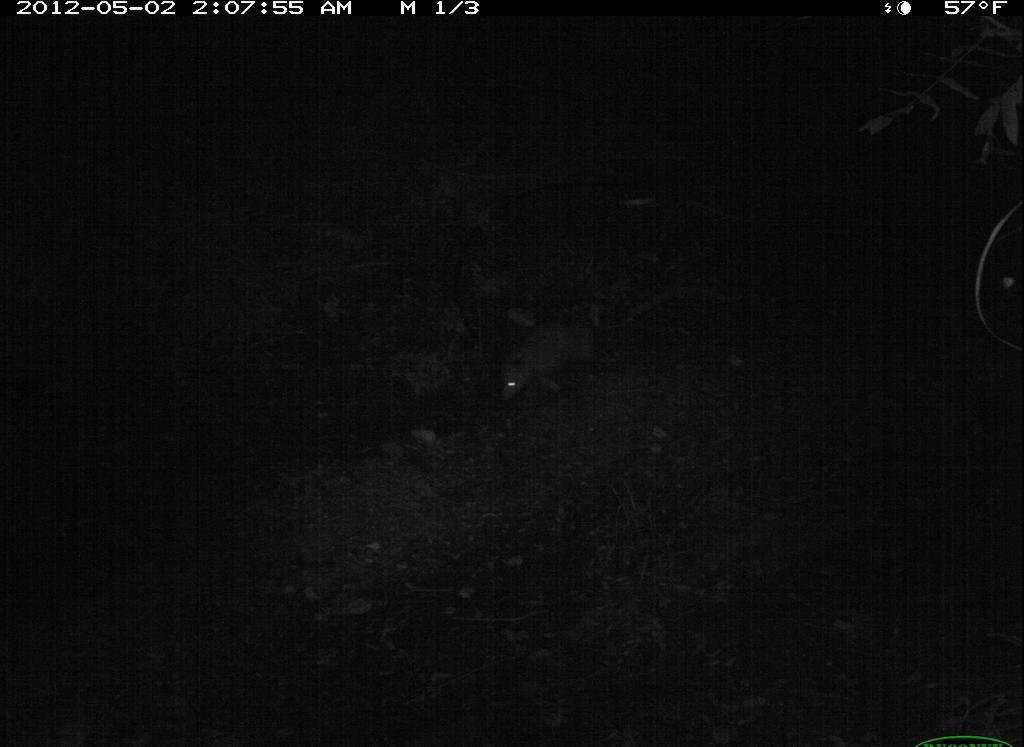opossum: (452, 264, 642, 456)
